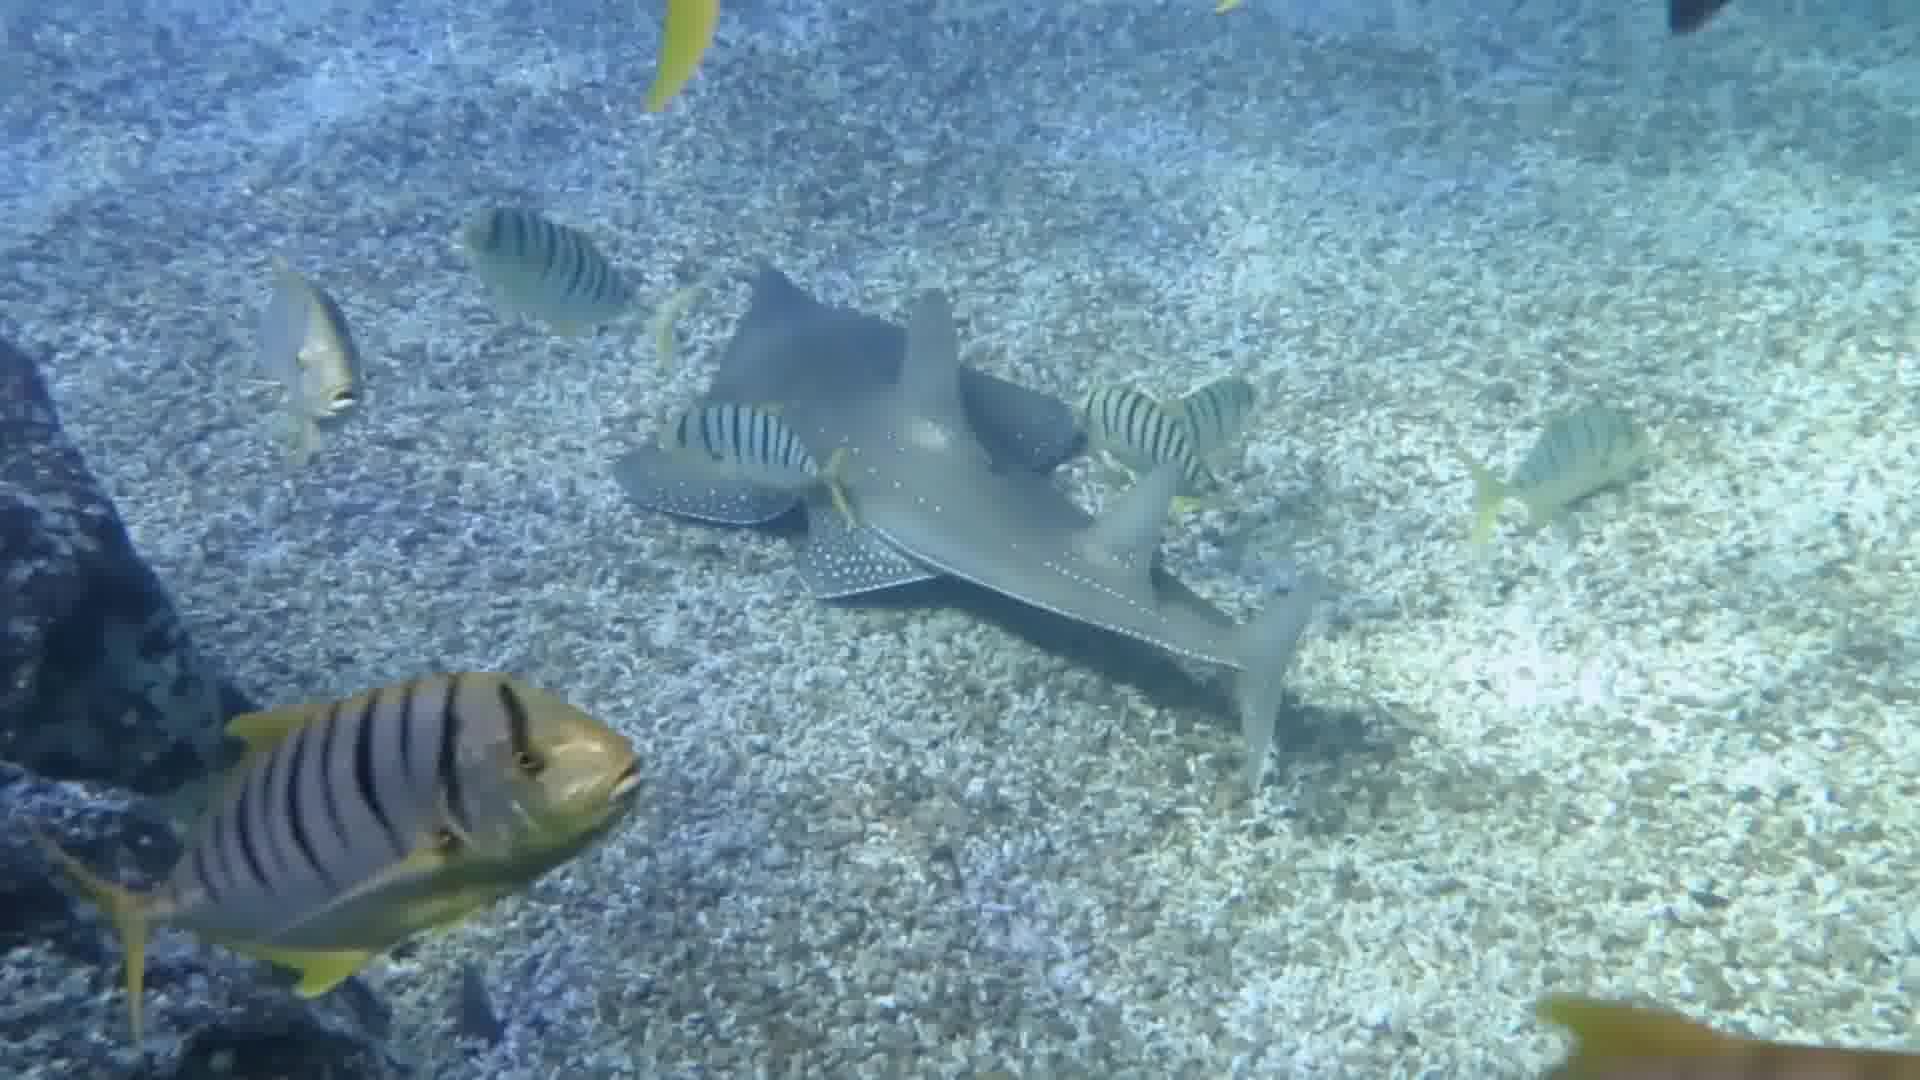Rhychobatus djiddensis: (613, 214, 1400, 773)
